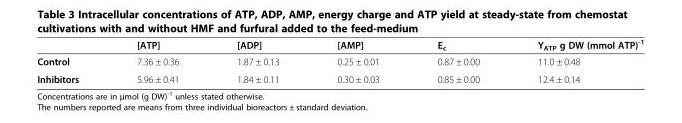table: (36, 37, 643, 84)
table column: (508, 37, 643, 84), (407, 37, 508, 84), (107, 37, 207, 84), (207, 37, 307, 84), (307, 37, 407, 84), (36, 37, 107, 84)
table column header: (36, 37, 643, 53)
table row: (36, 37, 643, 53), (36, 53, 643, 69), (36, 69, 643, 84)
